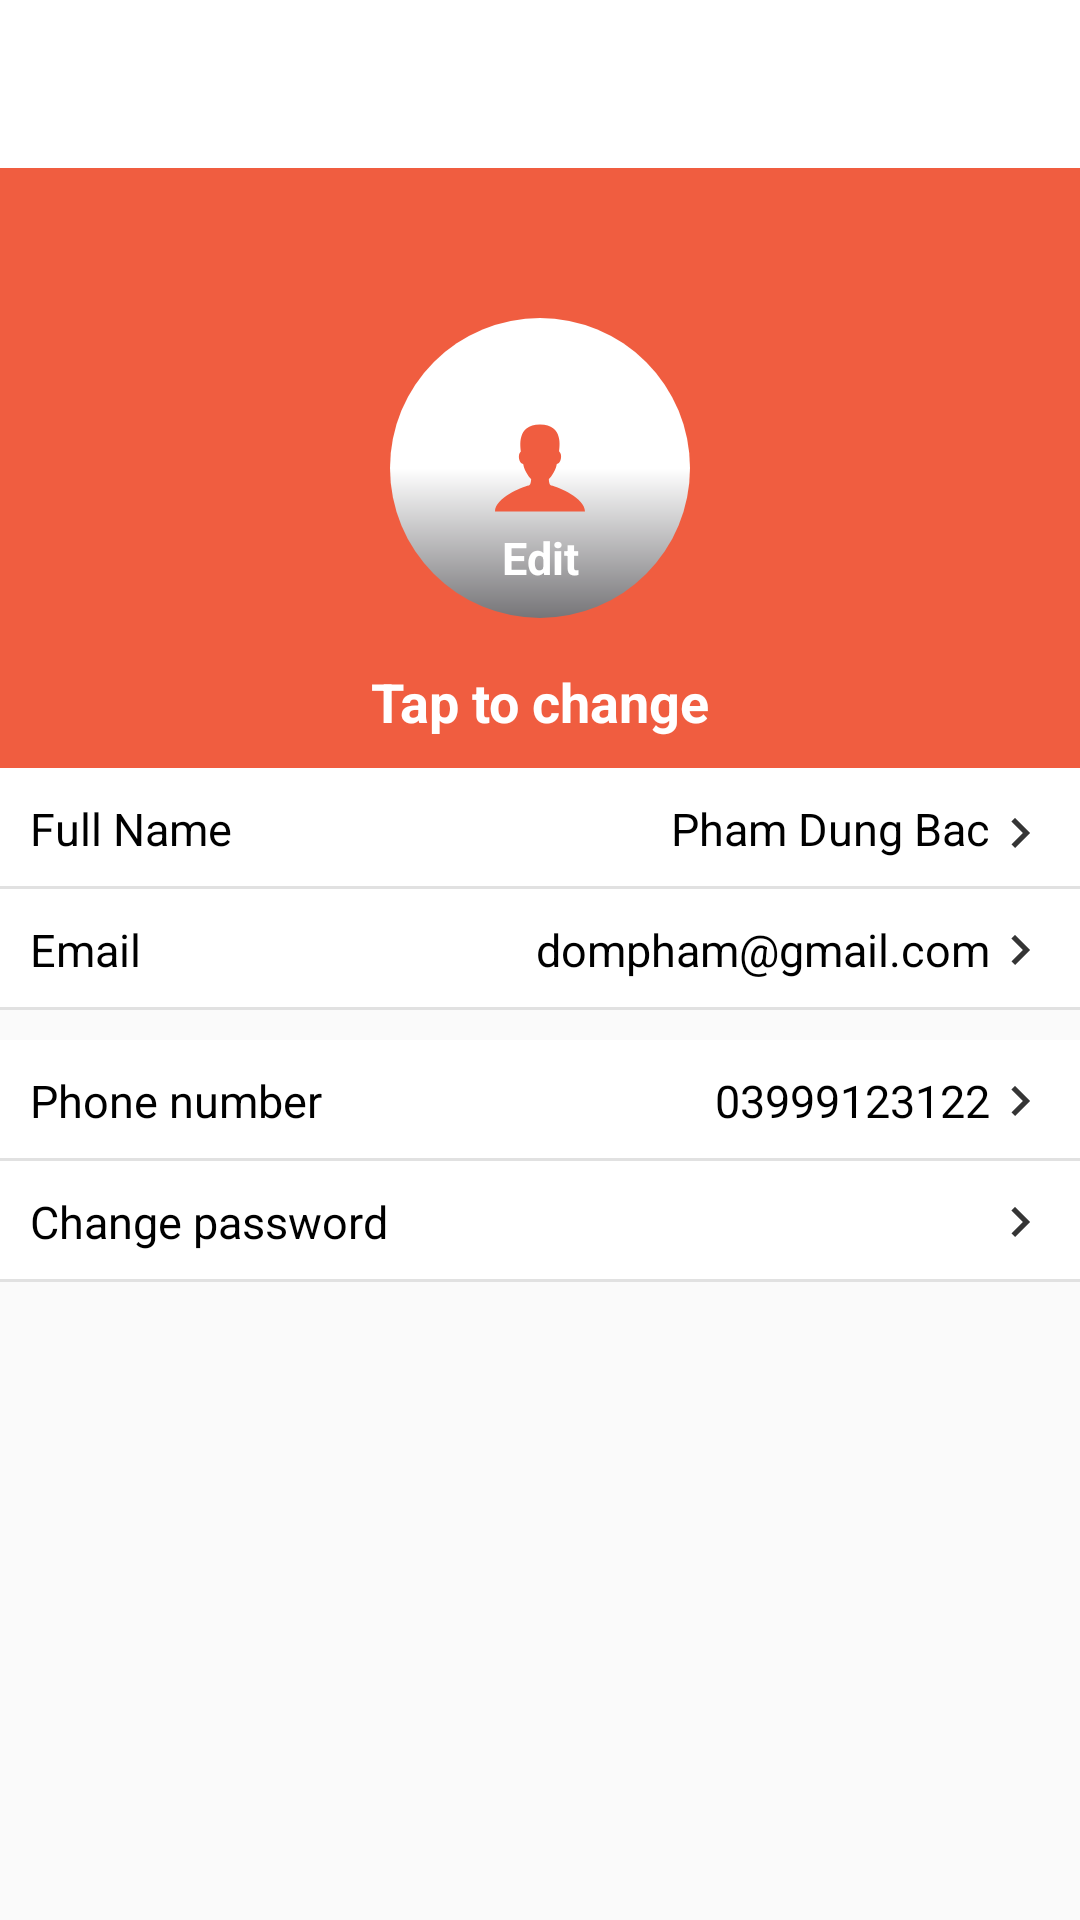

Screen size 1080*1920. Icon name, then its center in pixels as point (x, y):
chevron right: point (1020, 833), point (1020, 950), point (1020, 1101), point (1020, 1222)
male: point (540, 468)
